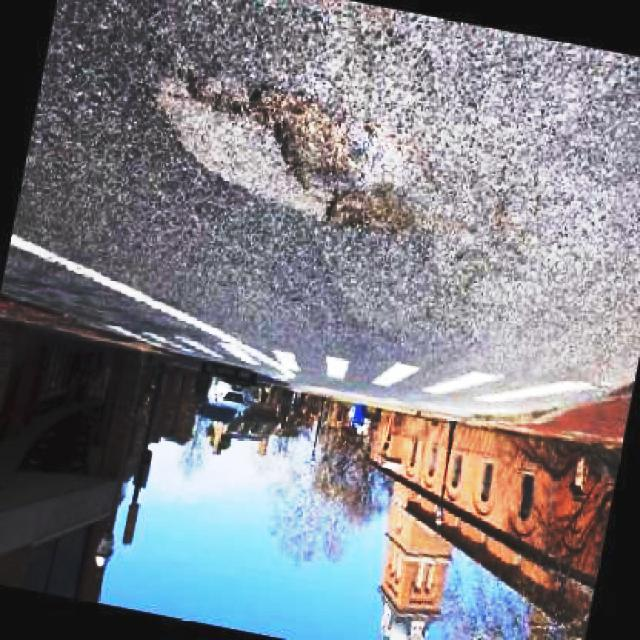pothole: (184, 71, 418, 237)
